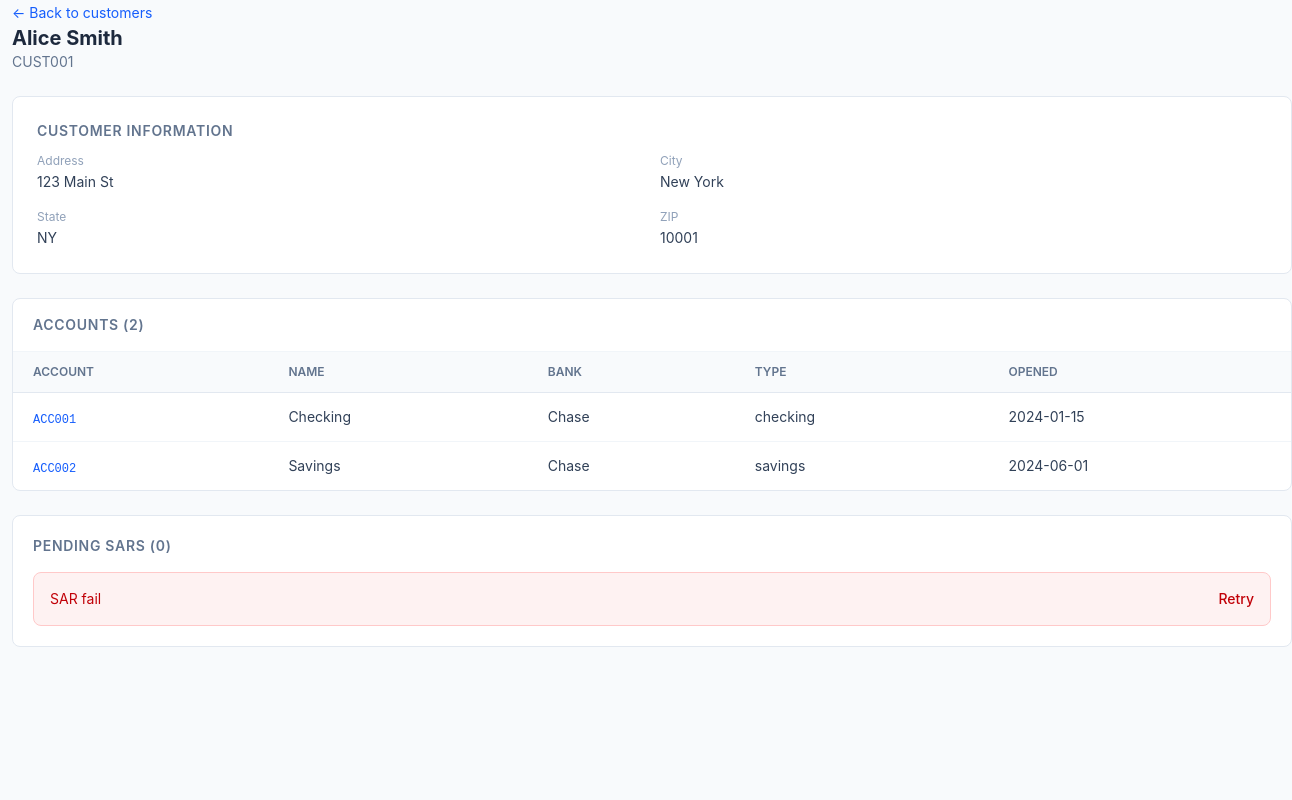
Scenario: CustomerDetailPage › retries SARs fetch on retry click
Check: the text "SAR fail" is shown, box 50,589 -> 101,609
Step 1. Click the button "Retry" → (1236, 599), box 1218,589 -> 1254,609
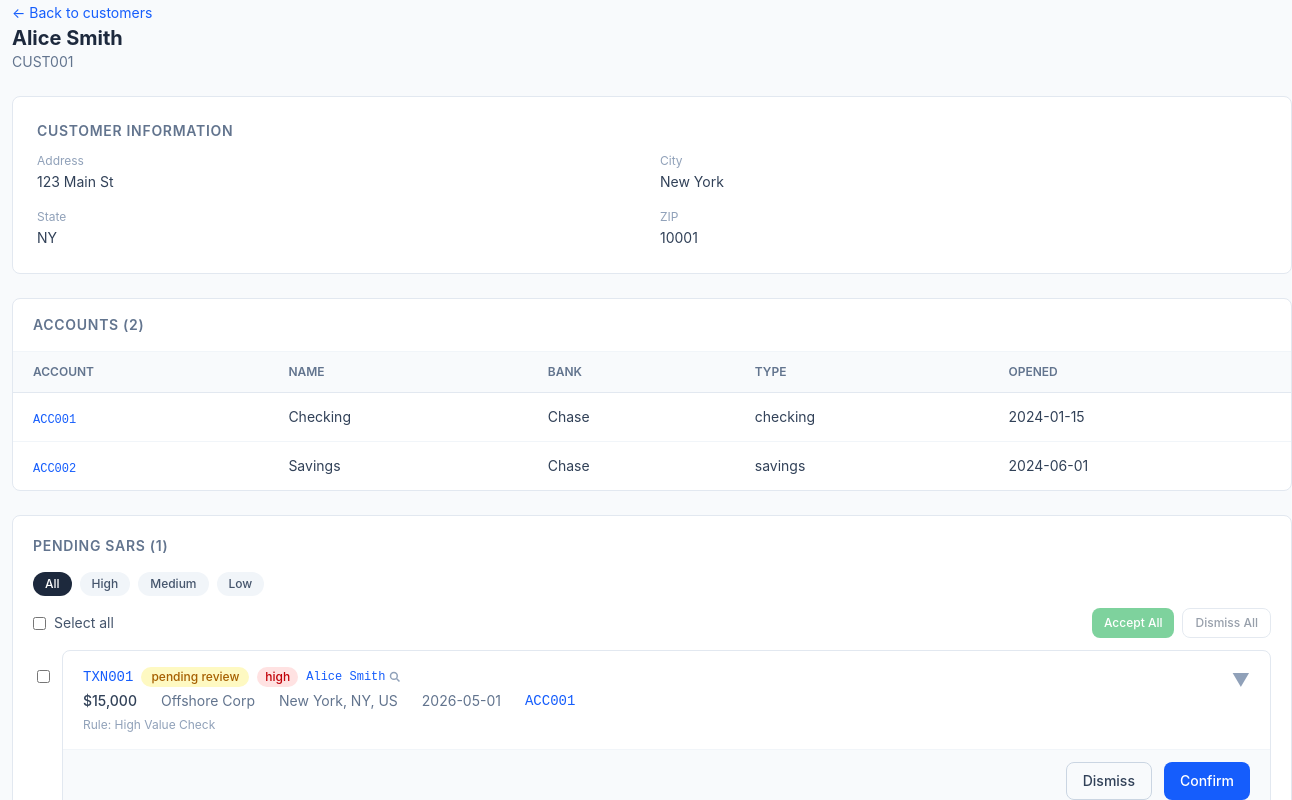
Check: the heading "Pending SARs (1)" is shown, box 33,537 -> 168,554
